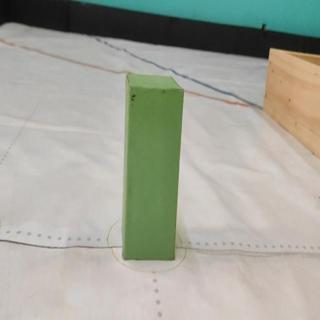greenbox: (119, 69, 184, 261)
